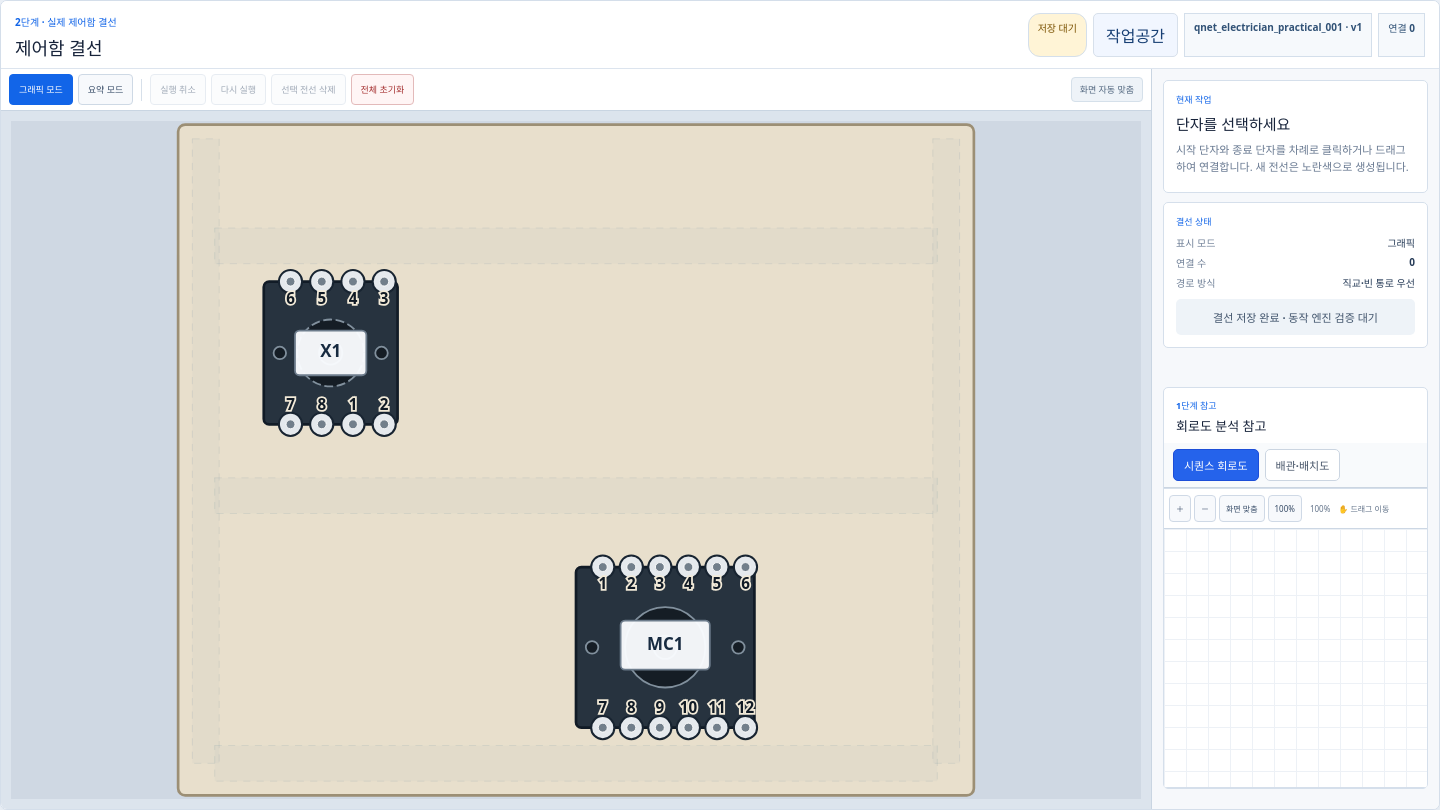
Test: 제어함 결선 › keeps capture available while an unverified Q-Net operation engine waits
Click the button "작업공간" at {"x": 1135, "y": 34}, box [1093, 12, 1178, 56]
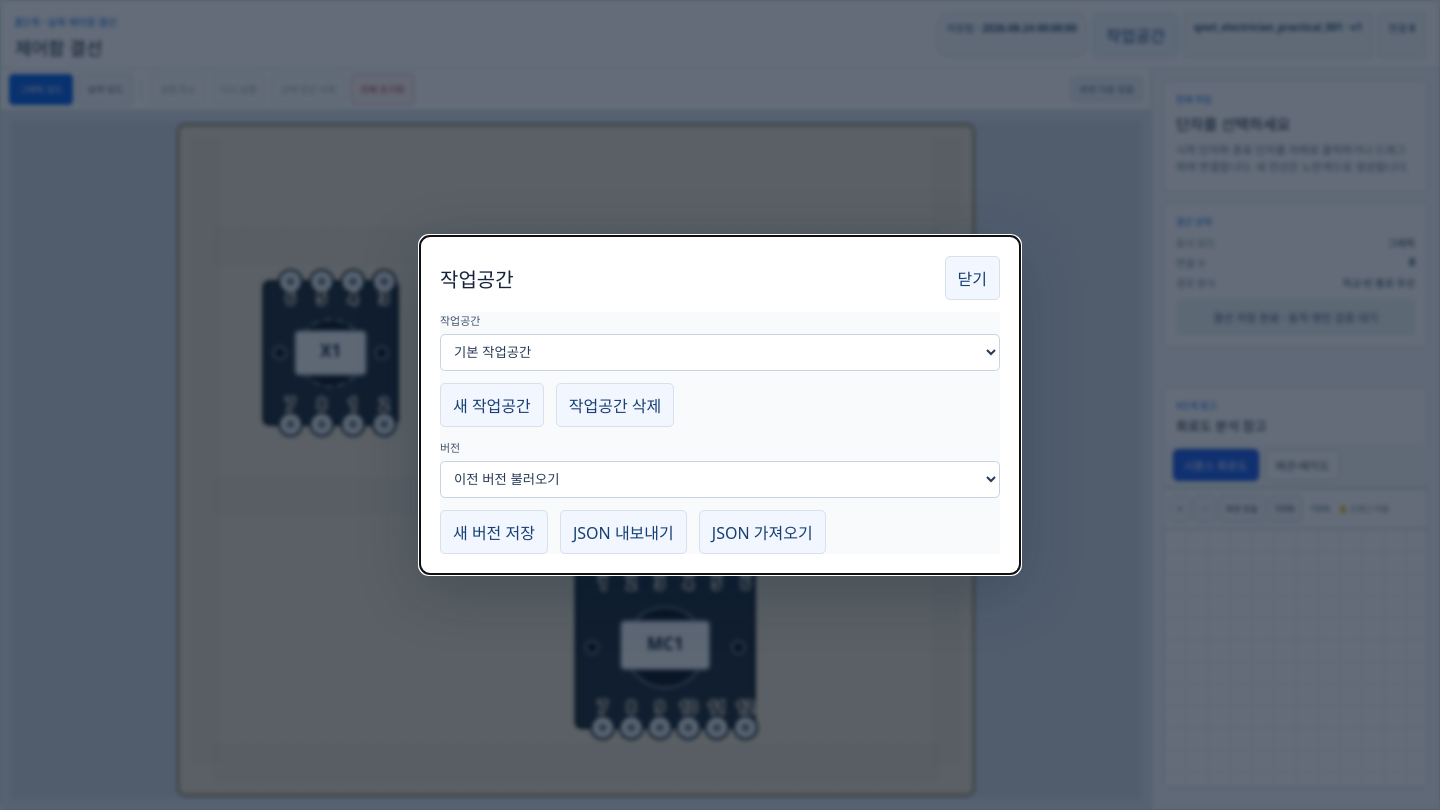
Expected: the text "결선 저장 완료 · 동작 엔진 검증 대기" is shown, [1176, 299, 1415, 335]
Expected: the dialog "작업공간" is shown, [420, 236, 1020, 574]
Expected: the element named "사용자 답안 작업공간 도구" is shown, [440, 312, 1000, 554]
